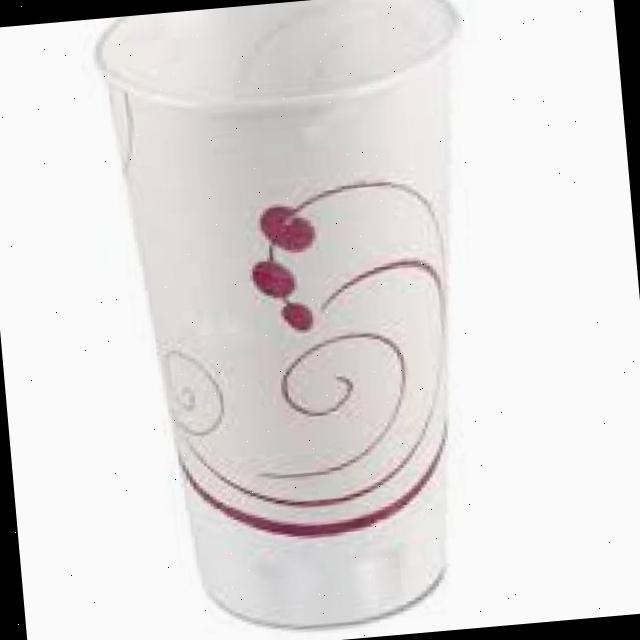trash: (86, 0, 506, 640)
